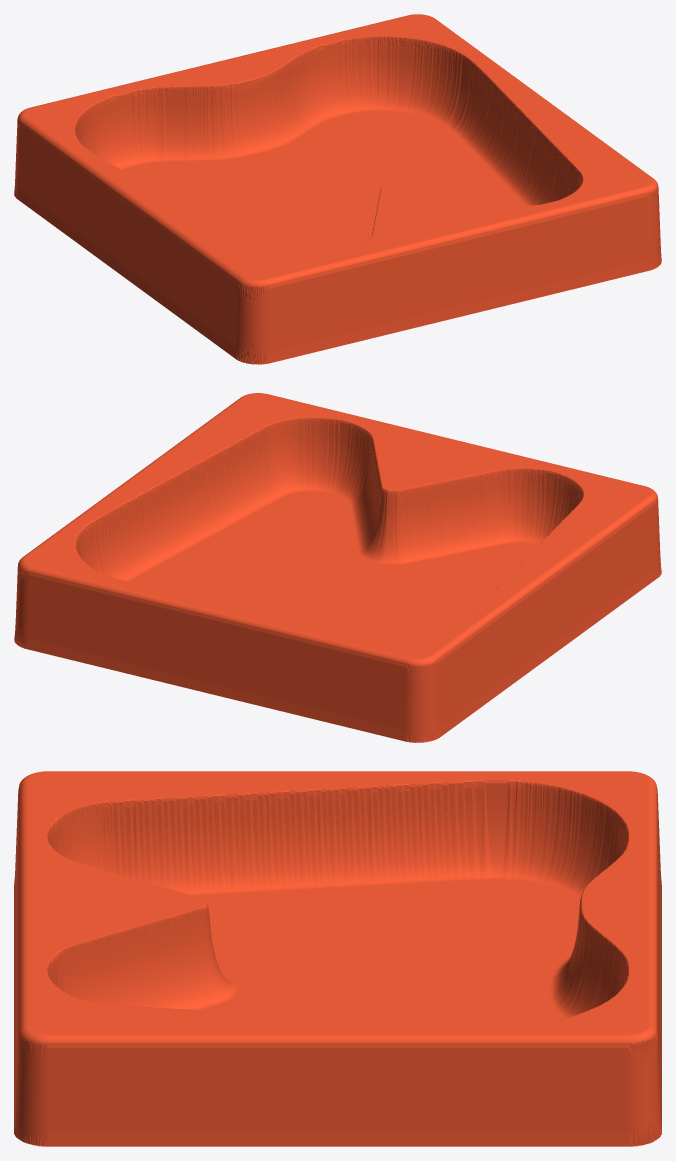
The model's file is mold.glb.
3 views of the same model, one above another, from view 1: azimuth 30°, elevation 25°; view 2: azimuth 150°, elevation 25°; view 3: azimuth 270°, elevation 25° (orthographic). The views are drawn at different scales.
Visible parts, largest first — view 1: geometry_0; view 2: geometry_0; view 3: geometry_0.
Part boxes in pixels (x1=…): geometry_0: x1=14, y1=14, x2=661, y2=364; geometry_0: x1=14, y1=393, x2=661, y2=742; geometry_0: x1=14, y1=771, x2=661, y2=1146.
Size of the model in its own units: 0.1709 by 0.031 by 0.1709.
